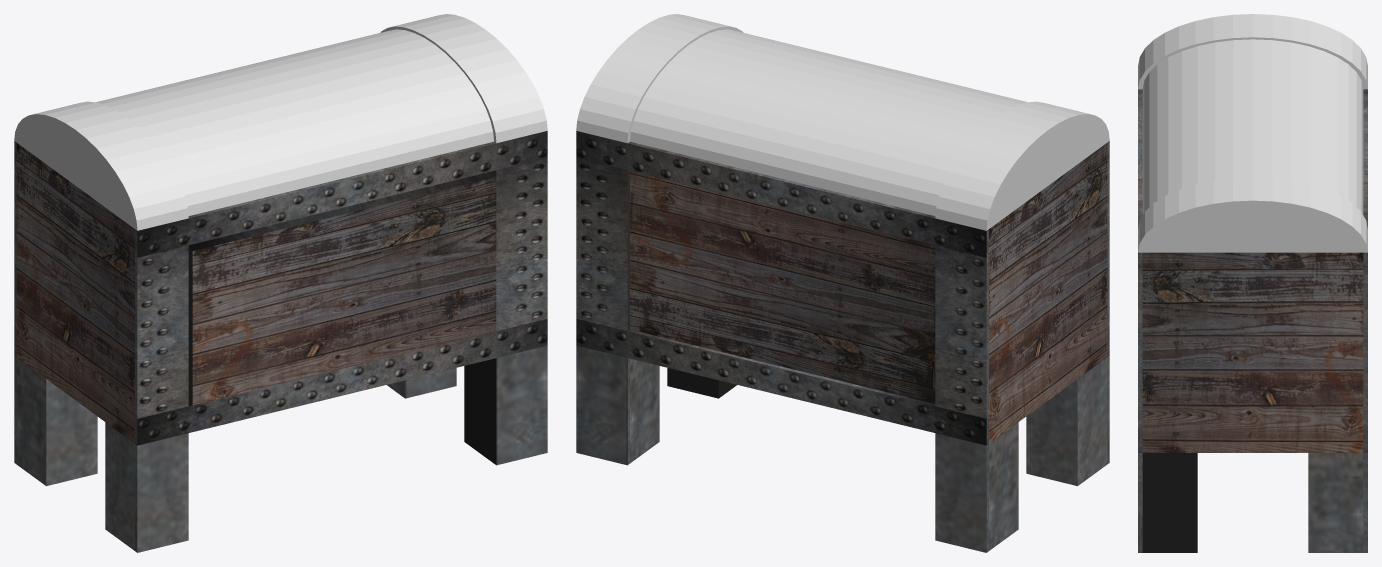
File: Scrigno.fbx
3 renders of one model, left to right at view 1: azimuth 30°, elevation 25°; view 2: azimuth 150°, elevation 25°; view 3: azimuth 270°, elevation 25°, orthographic. The views are drawn at different scales.
Parts seen in each view (by area): view 1: Cubo, Cilindro; view 2: Cubo, Cilindro; view 3: Cubo, Cilindro.
Boxes of the visible parts, bbox=[...] form: Cubo: bbox=[14, 131, 547, 552]; Cilindro: bbox=[14, 14, 547, 230]; Cubo: bbox=[576, 131, 1109, 552]; Cilindro: bbox=[576, 14, 1109, 230]; Cubo: bbox=[1138, 89, 1367, 552]; Cilindro: bbox=[1138, 14, 1367, 252].
Size of the model in its own units: 200 by 176 by 104.
